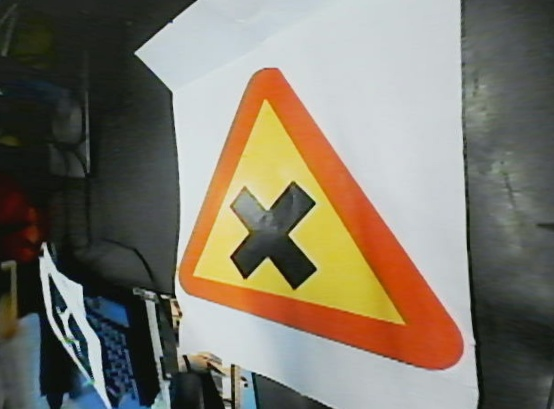junction: (167, 65, 465, 372)
